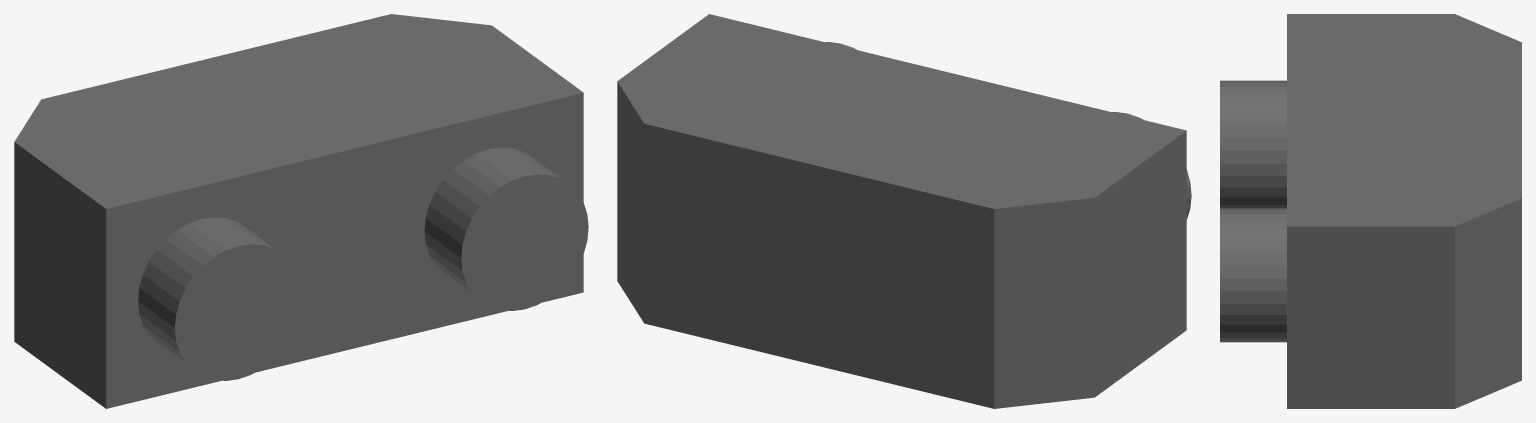
Rendered from data.dae.
3 views of the same model, side by side, from view 1: azimuth 30°, elevation 25°; view 2: azimuth 150°, elevation 25°; view 3: azimuth 270°, elevation 25° (orthographic). The views are drawn at different scales.
Visible parts, largest first — view 1: Binoculars; view 2: Binoculars; view 3: Binoculars.
Part boxes in pixels (x1,y1,x2,y2): Binoculars: (14,14,588,408); Binoculars: (617,14,1191,408); Binoculars: (1220,14,1521,408).
Bounding box in the file's own units: 0.3 × 0.18 × 0.12.
1 material, 1 textured.
